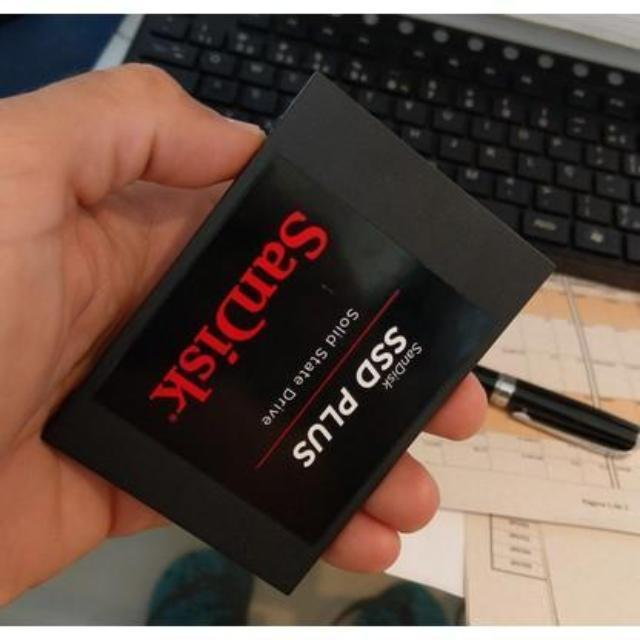DISK: (33, 61, 558, 599)
